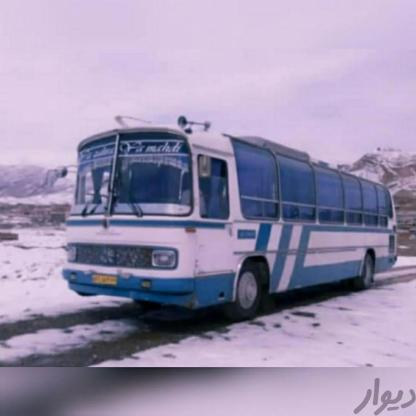Bus: (63, 116, 404, 330)
